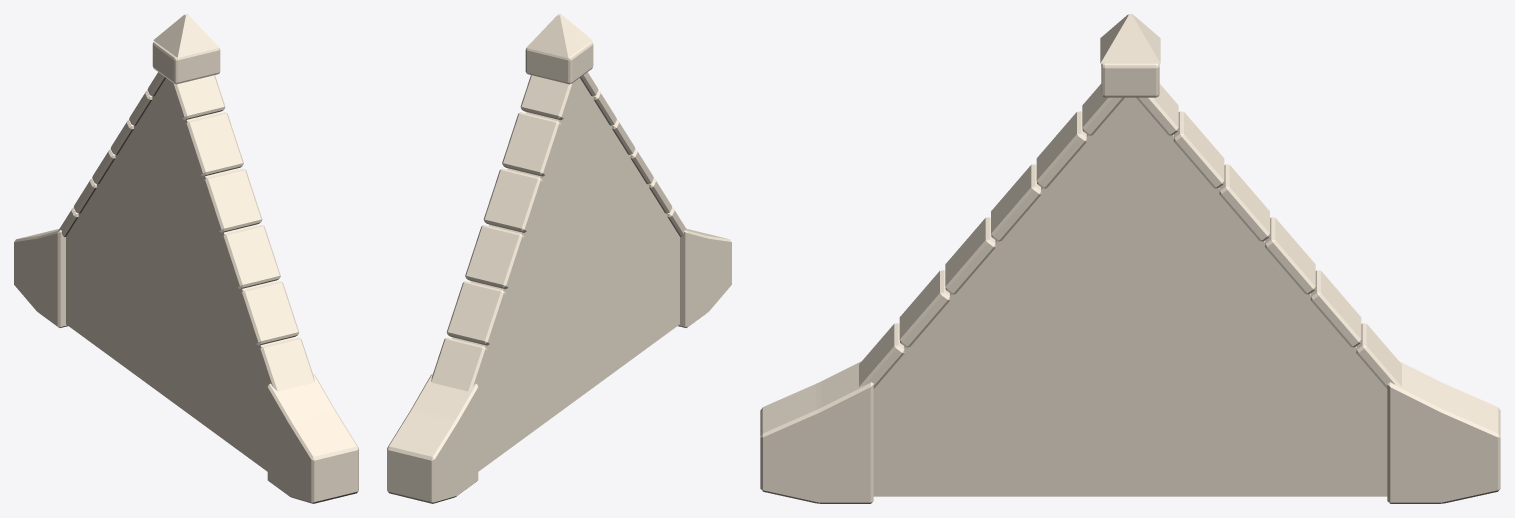
The model's file is SM_VK_Roof_Firewall.fbx.
3 views of the same model, side by side, from view 1: azimuth 30°, elevation 25°; view 2: azimuth 150°, elevation 25°; view 3: azimuth 270°, elevation 25° (orthographic). The views are drawn at different scales.
Parts seen in each view (by area): view 1: SM_VK_Roof_Firewall.001; view 2: SM_VK_Roof_Firewall.001; view 3: SM_VK_Roof_Firewall.001.
Part boxes in pixels (x1=…): SM_VK_Roof_Firewall.001: x1=14, y1=14, x2=358, y2=503; SM_VK_Roof_Firewall.001: x1=387, y1=14, x2=731, y2=503; SM_VK_Roof_Firewall.001: x1=760, y1=14, x2=1500, y2=503.
Size of the model in its own units: 0.72 by 5.56 by 7.84.
